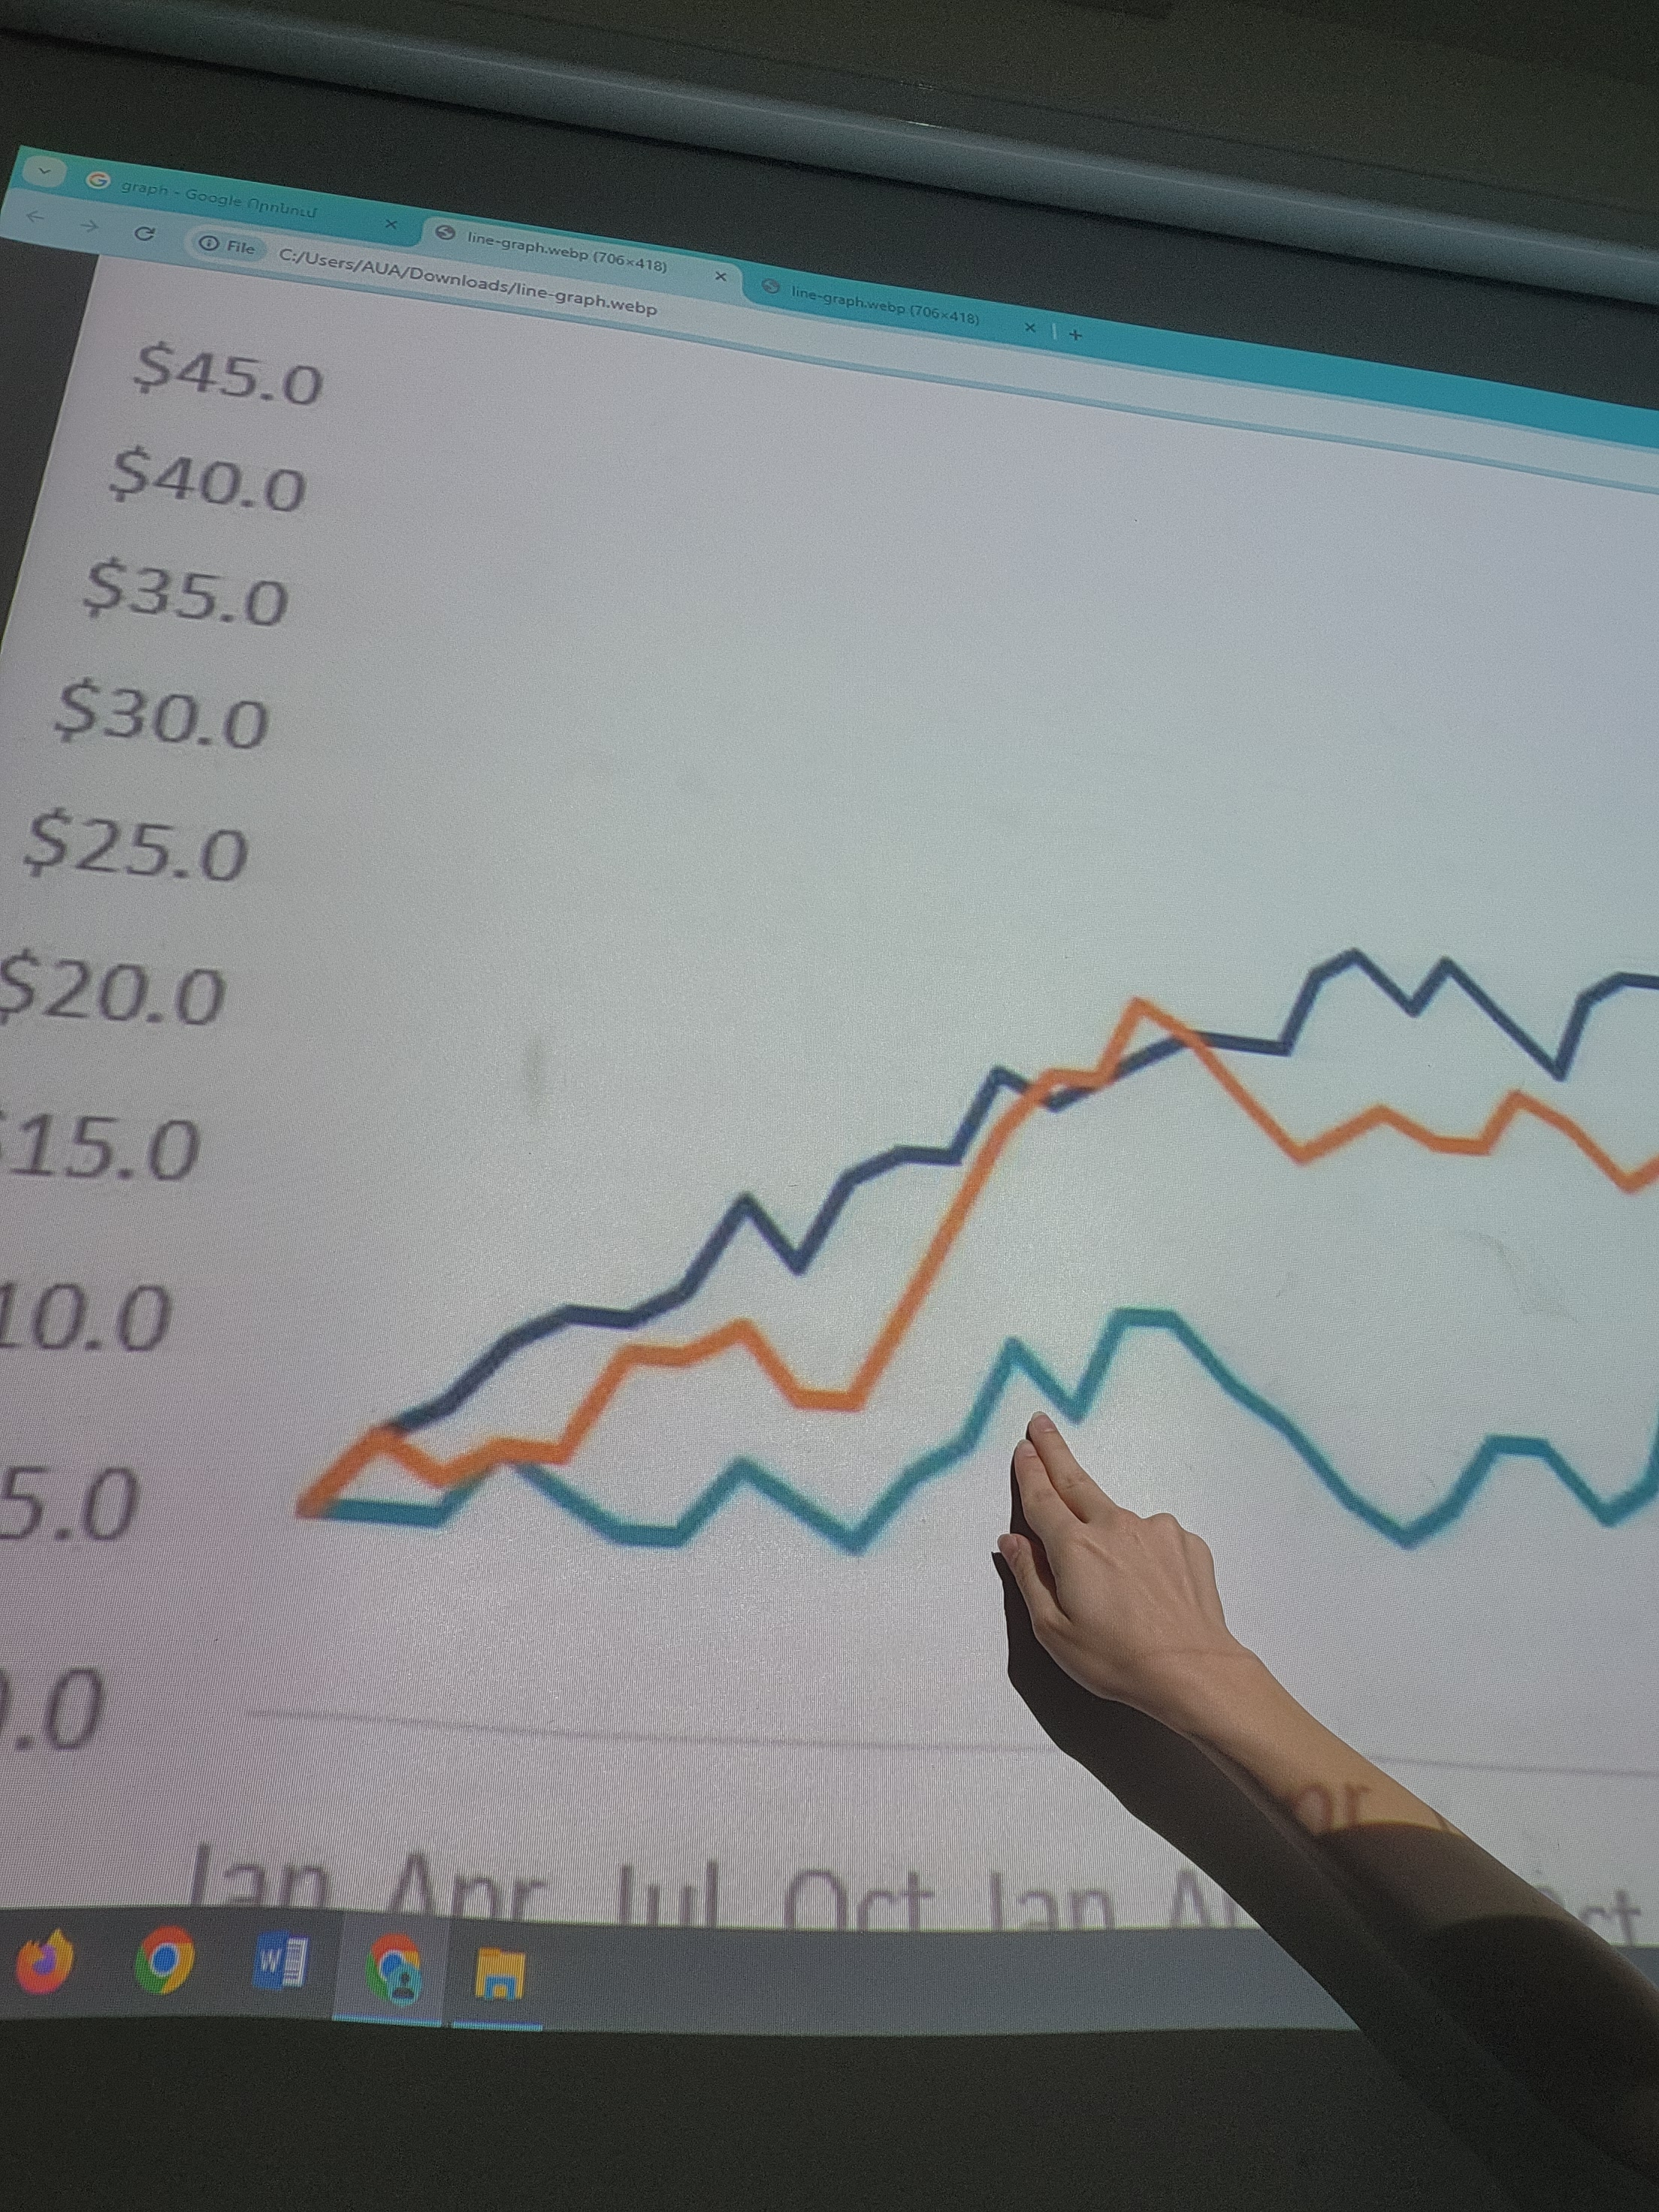pointing_gesture: (988, 1414, 1272, 1742)
